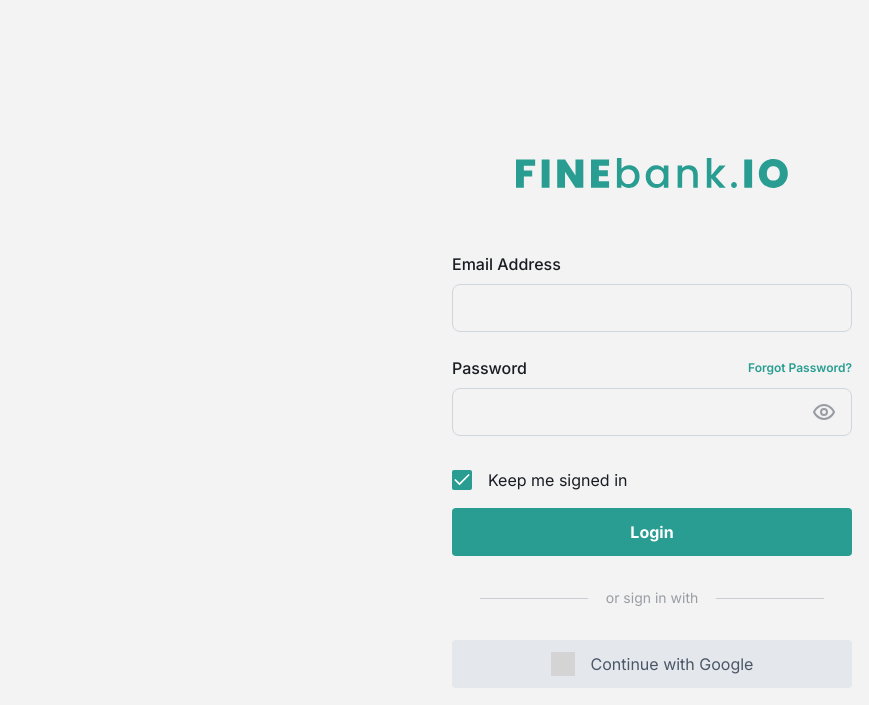
Scenario: a session that ends while the app is open › shows a new user none of the earlier data after they log in
Expected: the button "Login" is shown, [452,508,852,556]
Type "second@example.com" into the field labelled "Email Address". click: (652, 308)
box: [468,285,836,331]
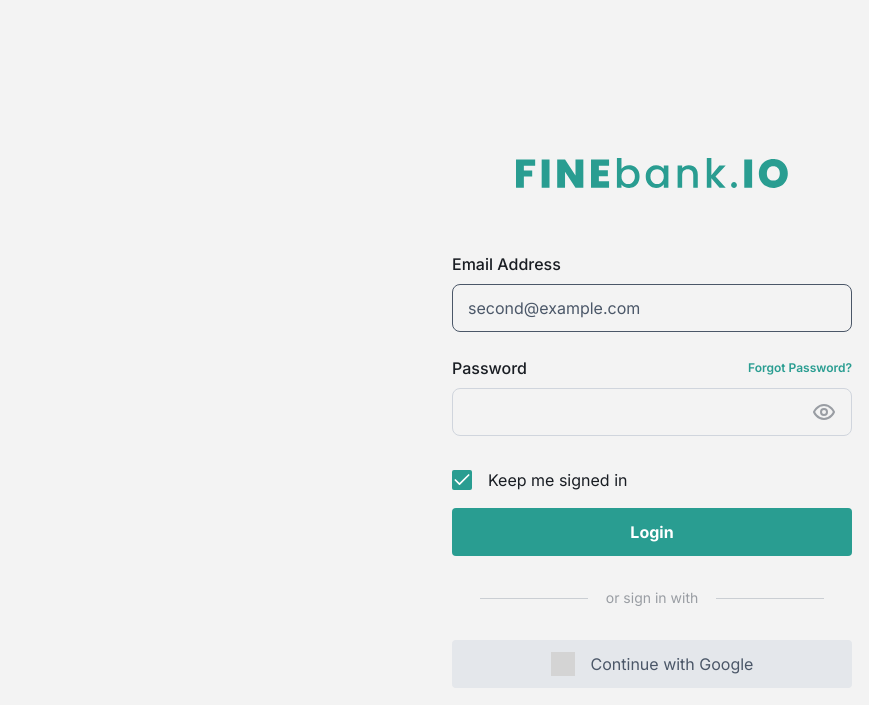
Type "abcdef12" into the password field labelled "Password". click: (632, 412)
box: [468,389,796,435]
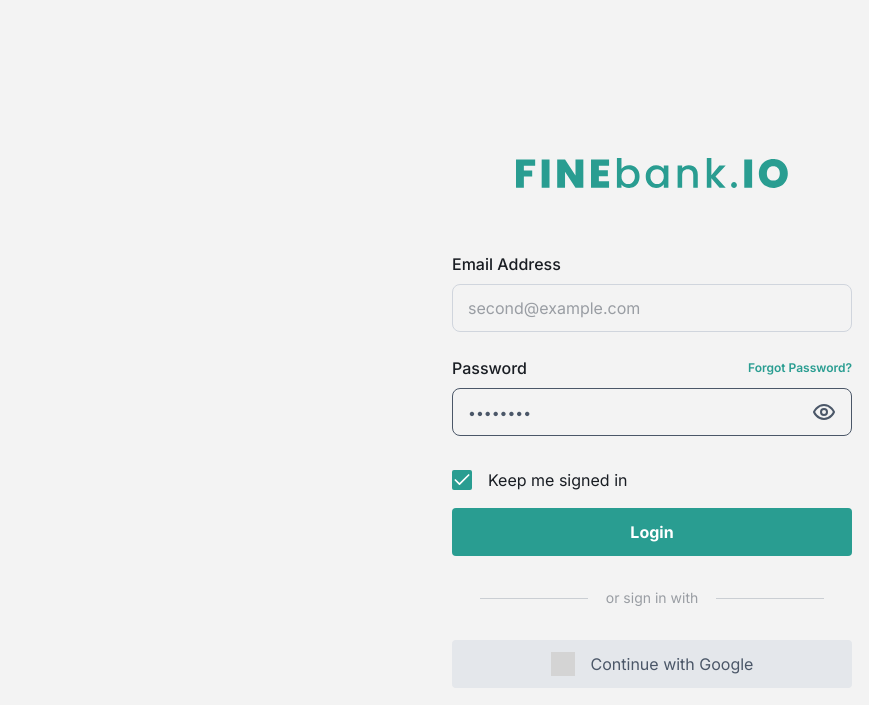
Click the button "Login". click: click(652, 532)
box: [452,508,852,556]
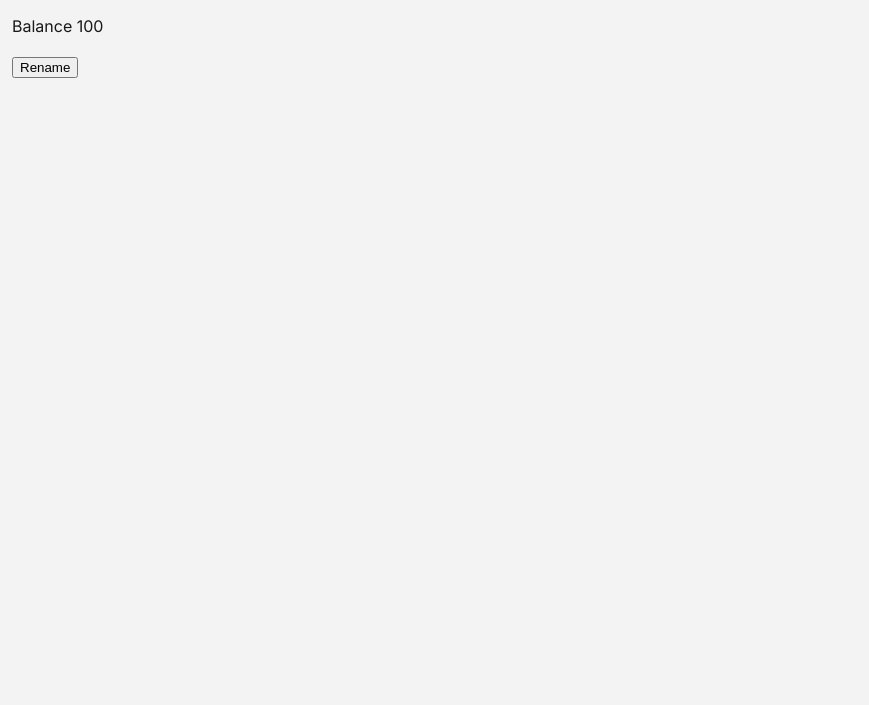
Expected: the text "Balance 100" is shown, [12,16,103,36]
